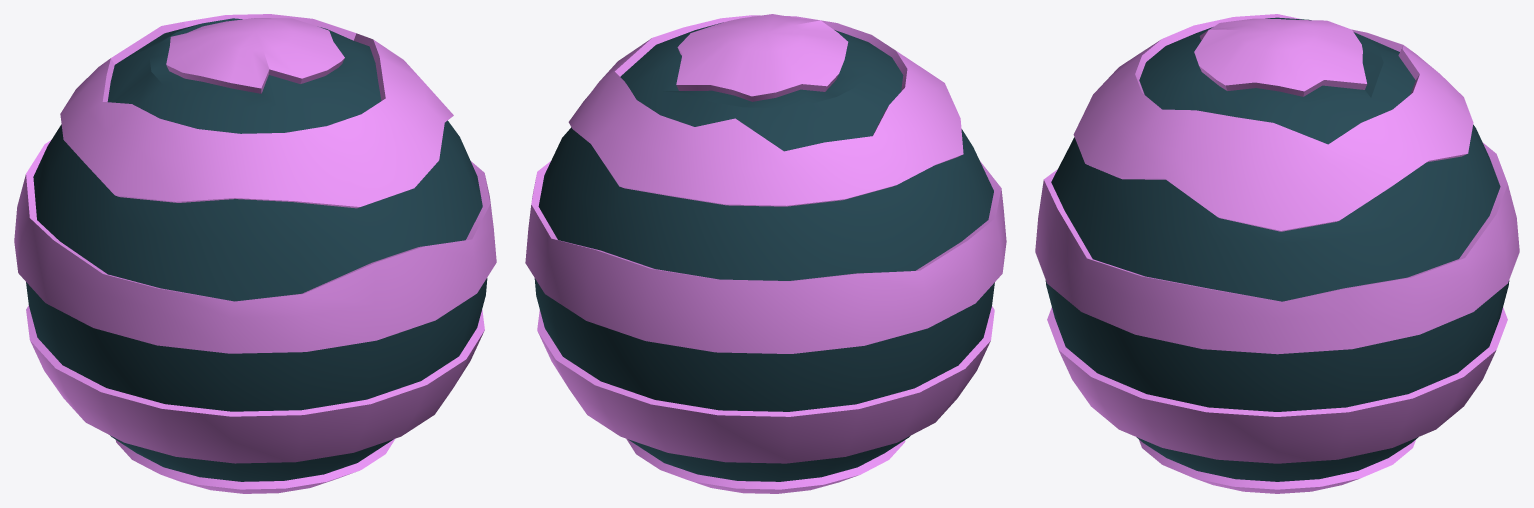
Rendered from Planet_V4.fbx.
3 renders of one model, left to right at view 1: azimuth 30°, elevation 25°; view 2: azimuth 150°, elevation 25°; view 3: azimuth 270°, elevation 25°, orthographic.
Parts seen in each view (by area): view 1: Planet_V4; view 2: Planet_V4; view 3: Planet_V4.
Boxes of the visible parts, bbox=[...] form: Planet_V4: bbox=[14, 14, 496, 493]; Planet_V4: bbox=[525, 14, 1006, 493]; Planet_V4: bbox=[1035, 14, 1519, 493].
Bounding box in the file's own units: 1293 × 1293 × 1293.
